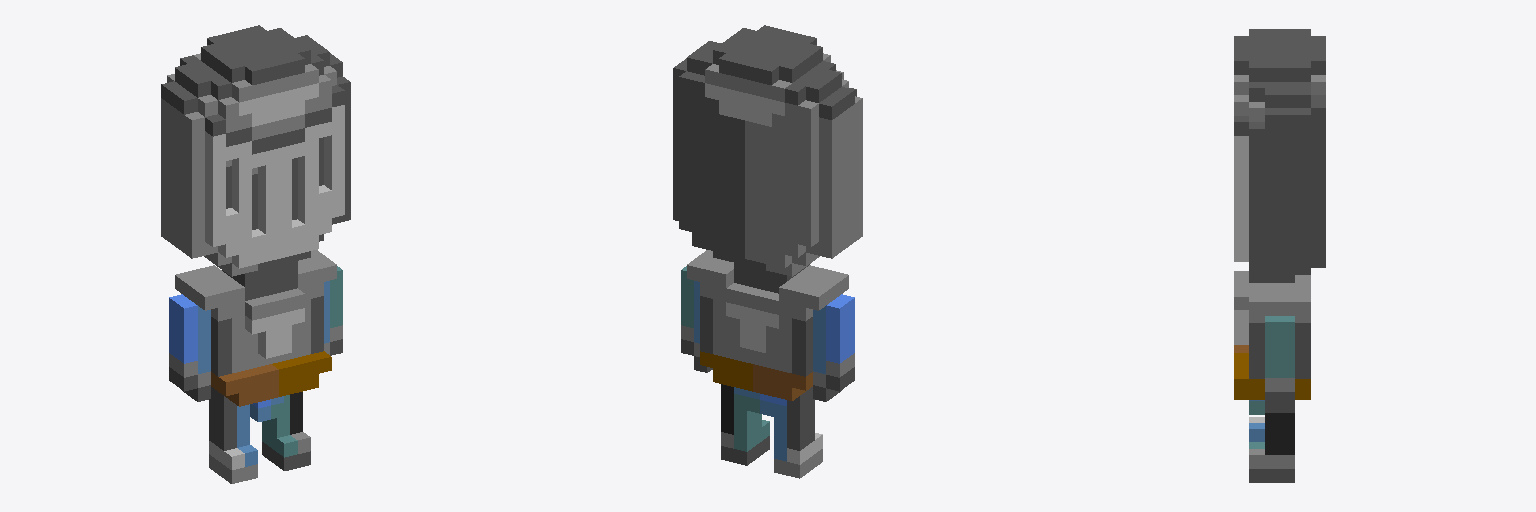
3 views of the same model, side by side, from view 1: azimuth 30°, elevation 25°; view 2: azimuth 150°, elevation 25°; view 3: azimuth 270°, elevation 25° (orthographic).
Bounding box in the file's own units: 12 × 30 × 6.
1 materials, 1 textured.